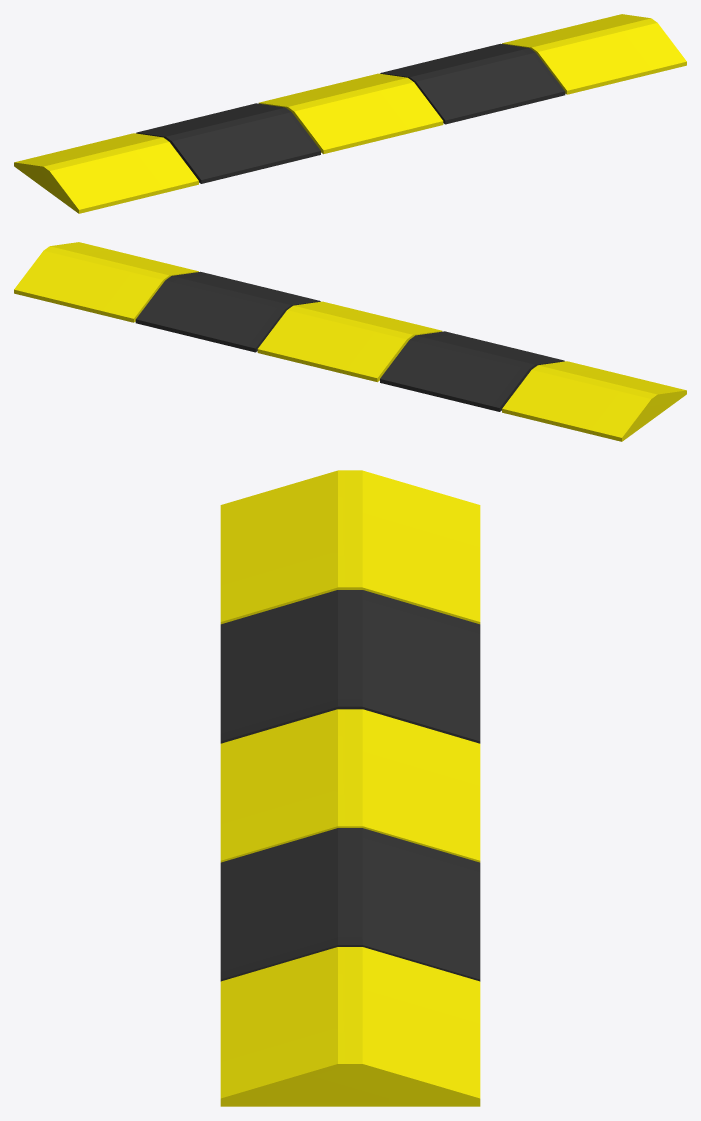
The picture shows the model from 3 angles, top to bottom: view 1: azimuth 30°, elevation 25°; view 2: azimuth 150°, elevation 25°; view 3: azimuth 270°, elevation 25°; orthographic projection. The views are drawn at different scales.
Parts seen in each view (by area): view 1: Lo-Body_01; view 2: Lo-Body_01; view 3: Lo-Body_01.
Part boxes in pixels (x1,y1,x2,y2): Lo-Body_01: [14, 14, 686, 213]; Lo-Body_01: [14, 242, 686, 441]; Lo-Body_01: [220, 470, 480, 1106].
Bounding box in the file's own units: 2.9 × 0.0972 × 0.5375.
1 material, 1 textured.
